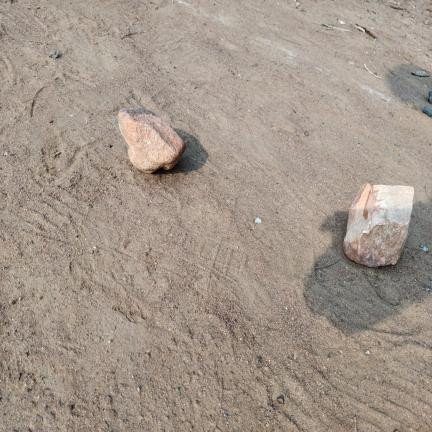Rocks: (344, 184, 413, 267), (119, 108, 185, 172), (412, 71, 429, 77), (49, 49, 60, 58), (423, 106, 431, 116), (429, 90, 431, 103)
